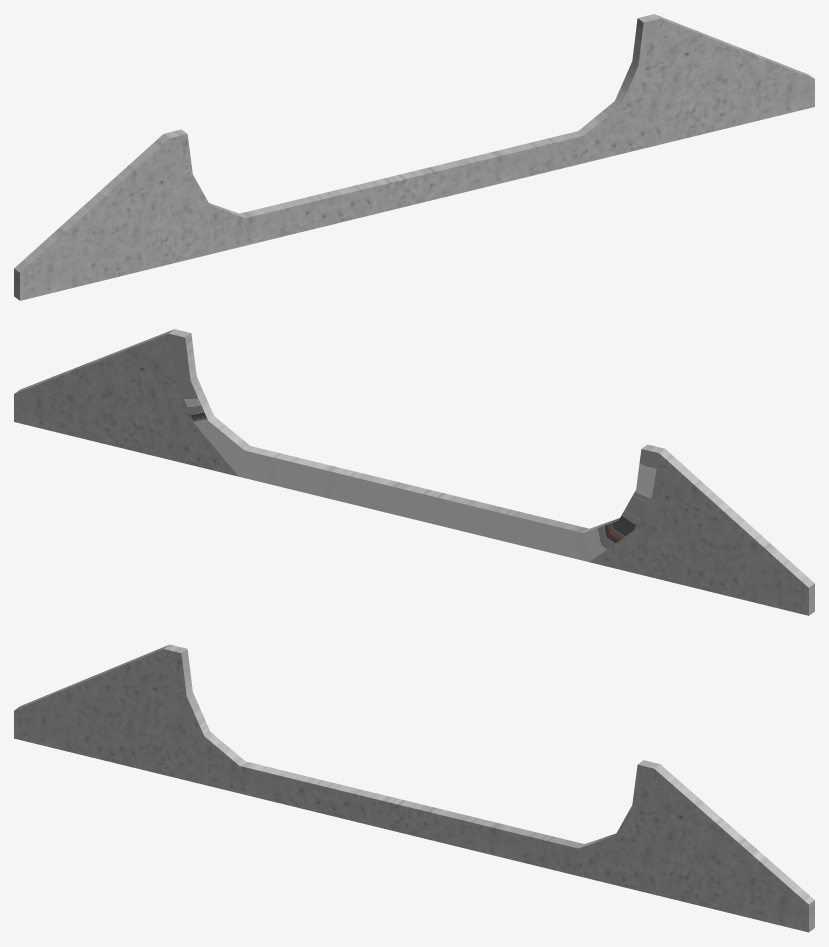
File: StartingF1.FBX
3 views of the same model, one above another, from view 1: azimuth 30°, elevation 25°; view 2: azimuth 150°, elevation 25°; view 3: azimuth 330°, elevation 25° (orthographic).
Visible parts, largest first — view 1: StartingF1; view 2: StartingF1; view 3: StartingF1.
Part boxes in pixels (bbox=[...]): StartingF1: bbox=[14, 14, 814, 300]; StartingF1: bbox=[14, 329, 814, 615]; StartingF1: bbox=[14, 644, 814, 932].
Bounding box in the file's own units: 21.34 × 3.24 × 0.2851.
